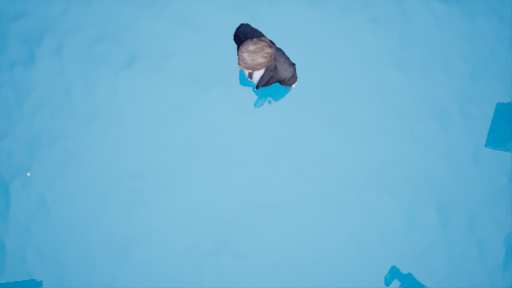person: (230, 25, 298, 108)
